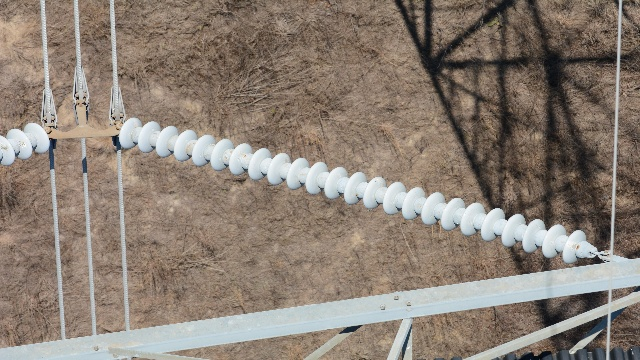insulator_unspecified: (118, 116, 588, 261), (0, 122, 52, 164)
pollution_flashover_local: (15, 136, 28, 150), (0, 144, 13, 153), (376, 178, 383, 188), (134, 119, 139, 128)
